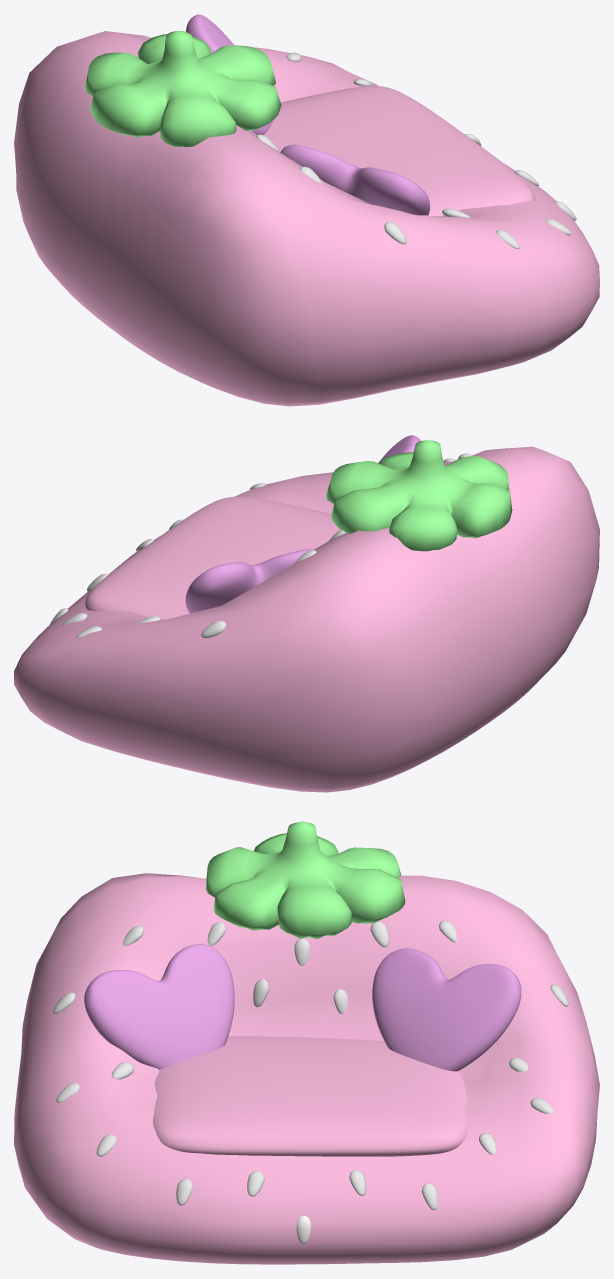
Rendered from mansikka_sohva.fbx.
The picture shows the model from 3 angles, top to bottom: view 1: azimuth 30°, elevation 25°; view 2: azimuth 150°, elevation 25°; view 3: azimuth 270°, elevation 25°; orthographic projection. The views are drawn at different scales.
Visible parts, largest first — view 1: couch, vihree, pillow.001, pillow; view 2: couch, vihree, pillow; view 3: couch, vihree, pillow, pillow.001.
Part boxes in pixels (x1,y1,x2,y2): couch: (14, 31, 599, 406); vihree: (84, 31, 281, 147); pillow.001: (280, 144, 429, 215); pillow: (186, 14, 273, 134); couch: (14, 446, 599, 792); vihree: (326, 440, 512, 551); pillow: (185, 549, 314, 613); couch: (14, 873, 599, 1264); vihree: (205, 821, 405, 938); pillow: (372, 948, 521, 1071); pillow.001: (84, 944, 234, 1069).
Size of the model in its own units: 2.36 by 1.52 by 2.74.
